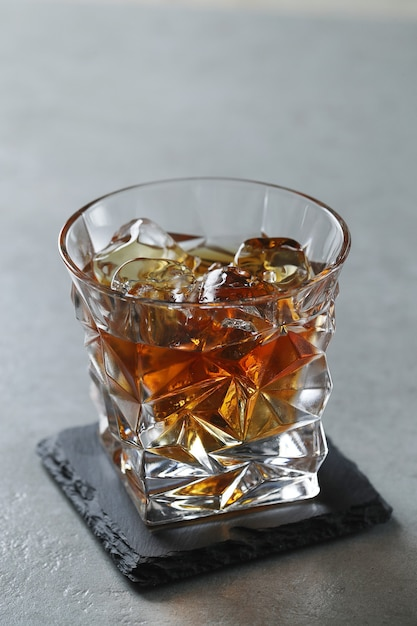alcohol: (54, 161, 357, 527)
